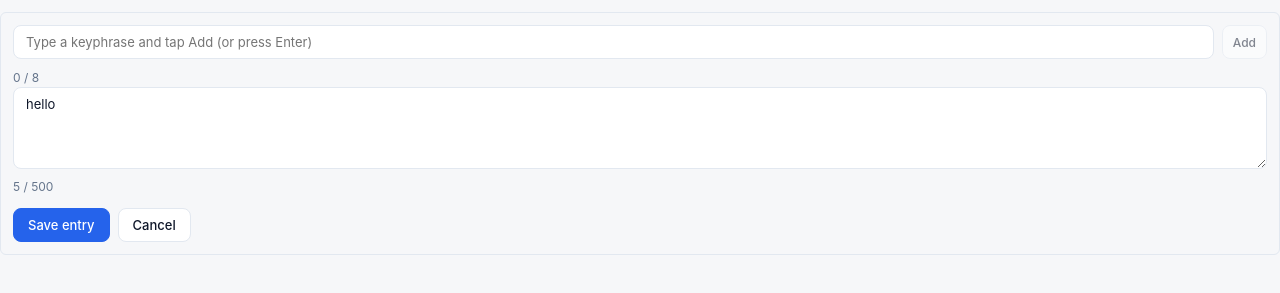
it: JournalEntryForm › flushes the pending keyphrase on blur (the Android "Next" arrow scenario)
This screenshot has width=1280, height=293.
In the field with test id "keyphrase-input": (613, 42) [13,25,1214,59], type "pending"
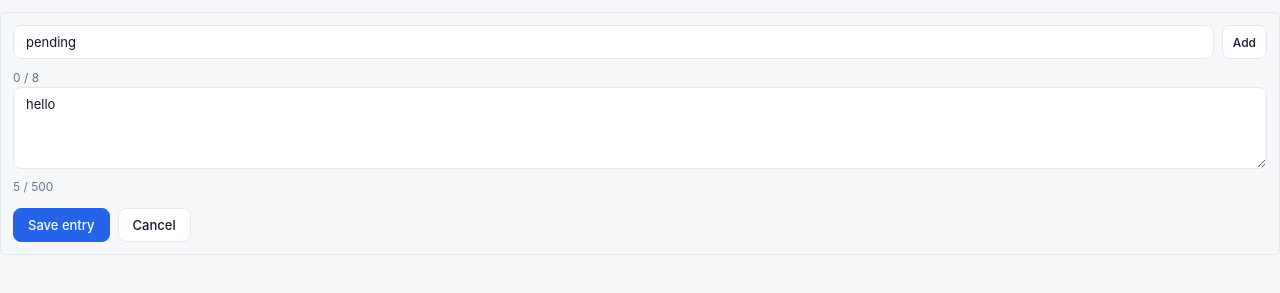
Leave the field with test id "keyphrase-input", box [13,25,1214,59]
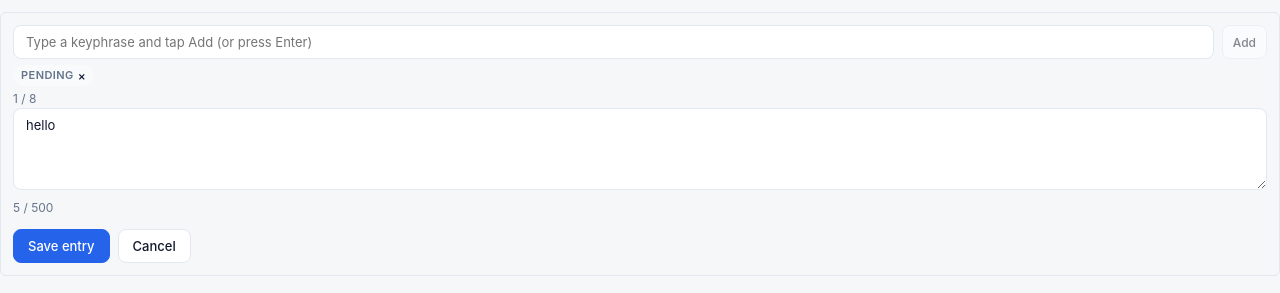
Now the text "pending" is shown, box [21,68,74,82]
Now the field with test id "keyphrase-input" is empty, box [13,25,1214,59]
